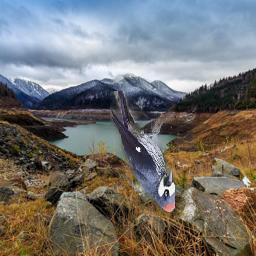Woodpecker: (111, 91, 176, 213)
